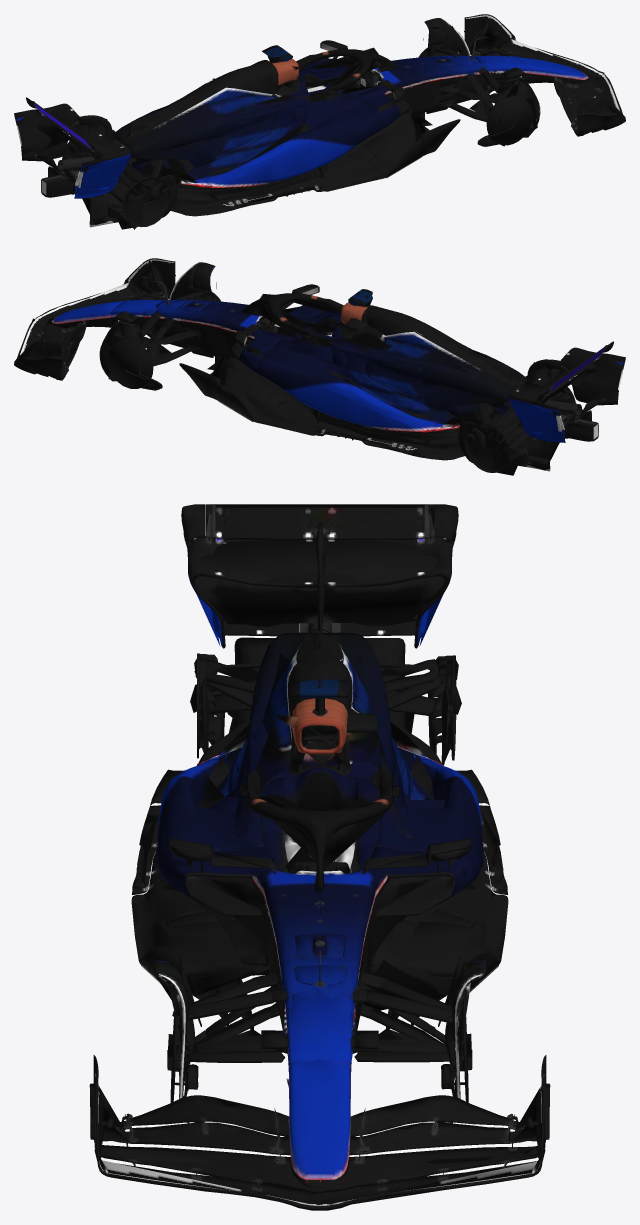
The model's file is williams.glb.
3 views of the same model, one above another, from view 1: azimuth 30°, elevation 25°; view 2: azimuth 150°, elevation 25°; view 3: azimuth 270°, elevation 25° (orthographic). The views are drawn at different scales.
Parts seen in each view (by area): view 1: lod_near, lod_far; view 2: lod_near, lod_far; view 3: lod_near, lod_far.
Part boxes in pixels (box(x1,y1,x2,y2)): lod_near: box(14, 14, 625, 229); lod_far: box(17, 16, 621, 229); lod_near: box(14, 258, 625, 475); lod_far: box(18, 260, 622, 470); lod_near: box(89, 504, 550, 1210); lod_far: box(94, 504, 545, 1210).
Size of the model in its own units: 5.71 by 1.18 by 2.02.
2 materials, 2 textured.
